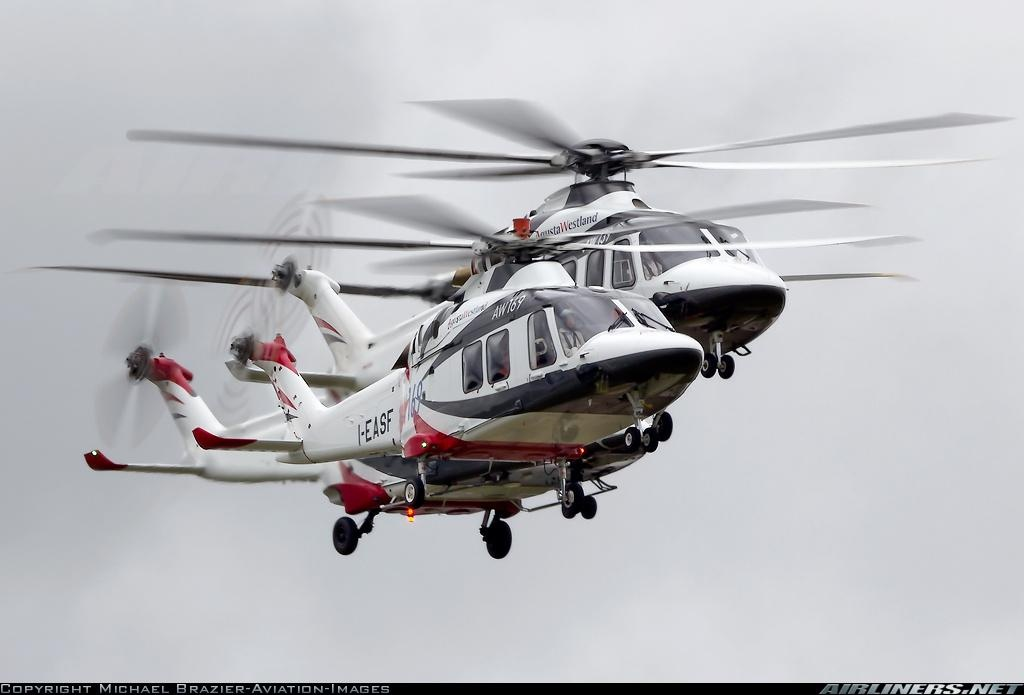person: (106, 199, 832, 530), (311, 90, 785, 369)
